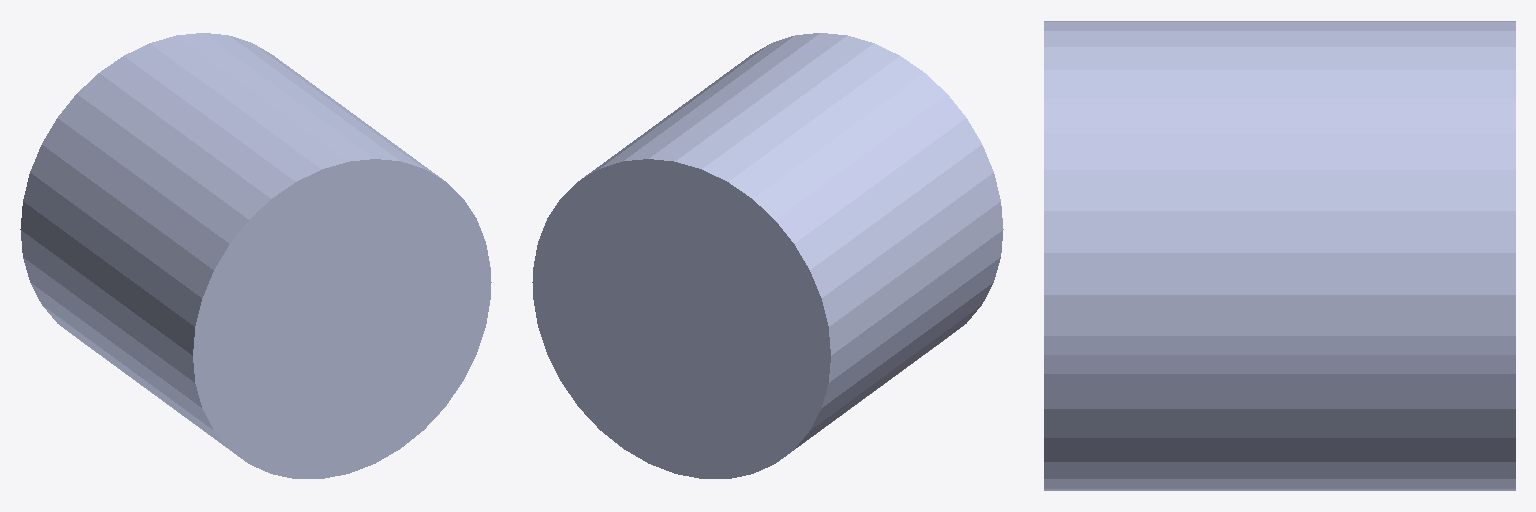
robot.urdf — mc:
<?xml version="1.0" encoding="utf-8"?>
<!-- This URDF was automatically created by SolidWorks to URDF Exporter! Originally created by [author] ([email redacted]) 
     Commit Version: 1.5.1-0-g916b5db  Build Version: 1.5.7152.31018
     For more information, please see http://wiki.ros.org/sw_urdf_exporter -->
<robot
  name="mc">
  <link
    name="mc">
    <inertial>
      <origin
        xyz="0 0 0"
        rpy="0 0 0" />
      <mass
        value="1.5612E-06" />
      <inertia
        ixx="1.5E-12"
        ixy="0"
        ixz="0"
        iyy="3E-12"
        iyz="-9.18454765366783E-29"
        izz="1.5E-12" />
    </inertial>
    <visual>
      <origin
        xyz="0 1.02307762458685E-19 0.0024"
        rpy="1.5707963267949 0 0" />
      <geometry>
        <mesh
          filename="package://mc/meshes/mc.STL" />
      </geometry>
      <material
        name="">
        <color
          rgba="0.79216 0.81961 0.93333 1" />
        <texture
          filename="package://mc/textures/" />
      </material>
    </visual>
    <collision>
      <origin
        xyz="0 1.02307762458685E-19 0.0024"
        rpy="1.5707963267949 0 0" />
      <geometry>
        <mesh
          filename="package://mc/meshes/mc.STL" />
      </geometry>
    </collision>
  </link>
</robot>

--- What the picture shows (computed from the rendered views, not written in the file) ---
The picture shows the robot from 3 angles, left to right: view 1: azimuth 30°, elevation 25°; view 2: azimuth 150°, elevation 25°; view 3: azimuth 270°, elevation 25°; orthographic projection.
Model mc with 1 links and 0 joints (none), rooted at mc, posed every joint at zero.
Visible links, largest first — view 1: mc; view 2: mc; view 3: mc.
Link boxes in pixels (x1,y1,x2,y2): mc: (20, 33, 491, 478); mc: (532, 33, 1003, 478); mc: (1044, 21, 1515, 490).
Size in the robot's own frame: 0.0048 by 0.0048 by 0.0048 metres.
Meshes: 1 distinct files referenced, 1 mesh visuals loaded (1 binary STL).